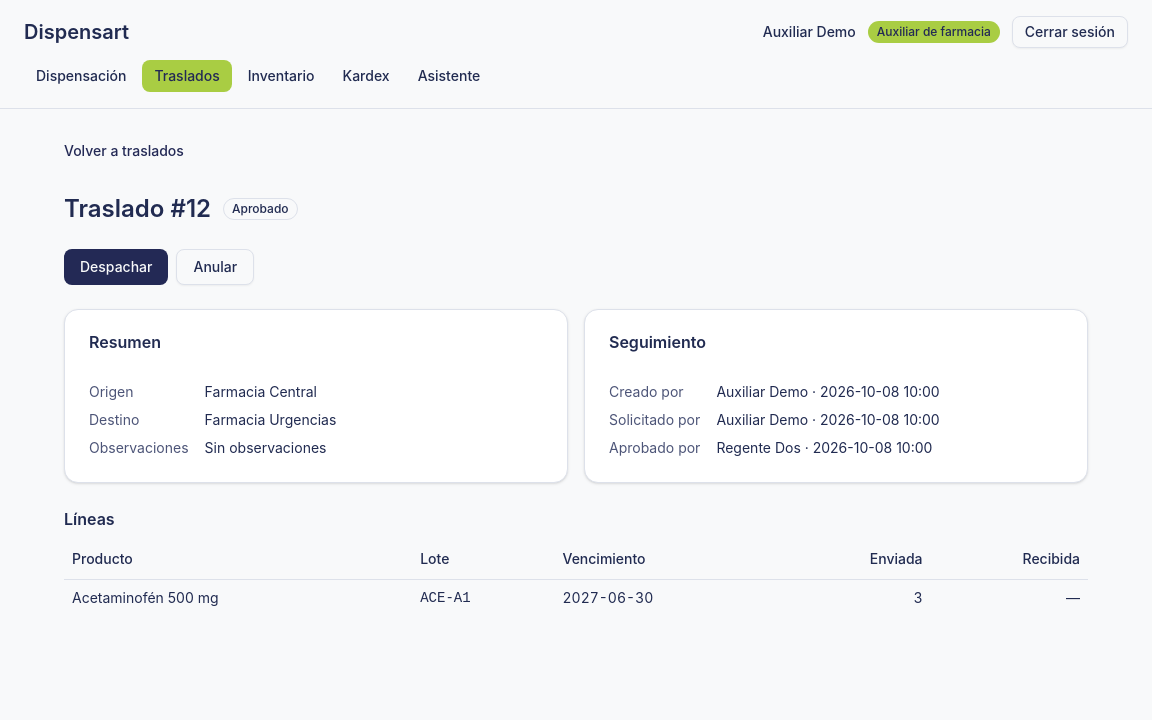
Test case: Traslados › despacho confirmado › Despacho cancelado (Cancelar): sin petición y sigue "Aprobado"
The width and height of the screenshot is (1152, 720).
Expected: the heading "Traslado #12" is shown, [64, 193, 211, 225]
Click the button "Despachar" at (116, 267), box [64, 249, 168, 285]
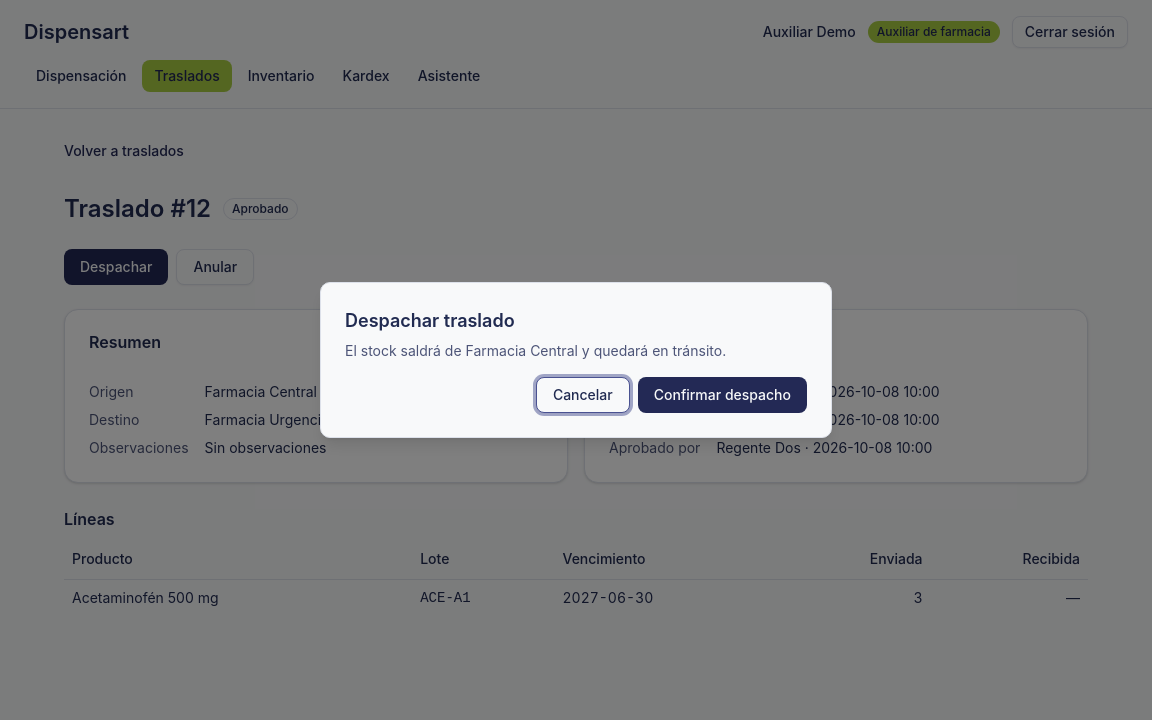
Click the button "Cancelar" at (583, 395), box [536, 377, 630, 413]
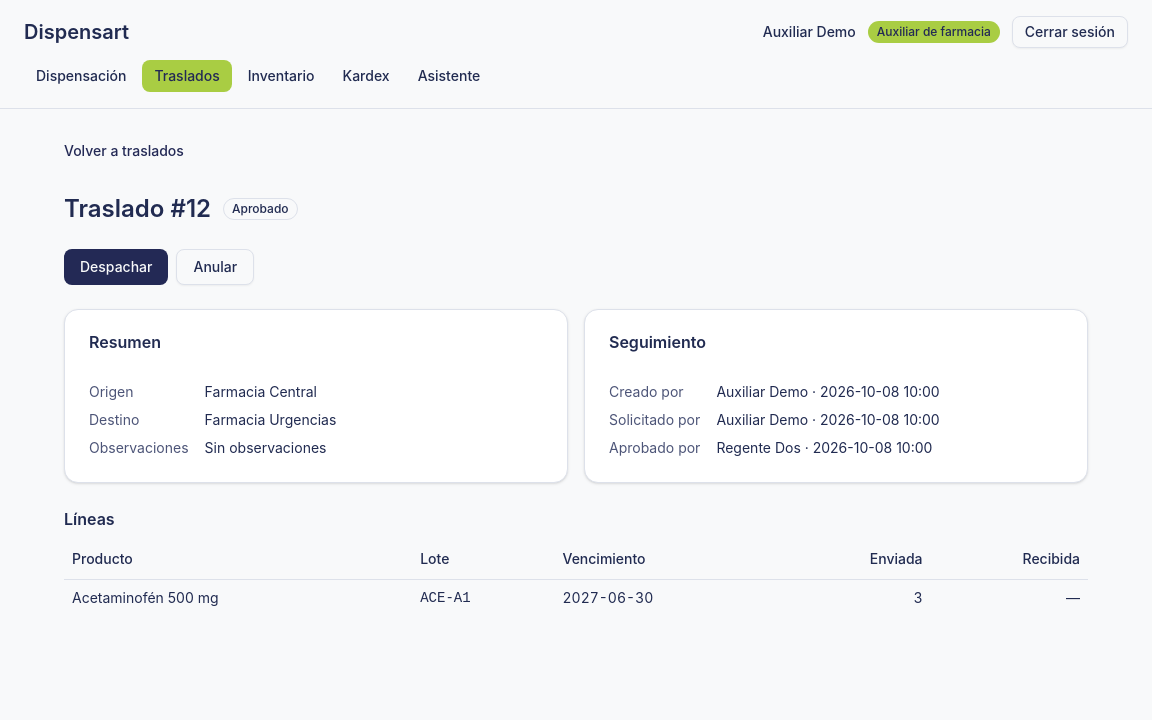
Expected: the text "Aprobado" is shown, [223, 198, 298, 220]
Now the dialog is gone
